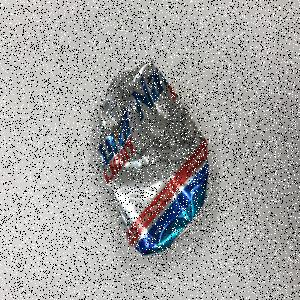Can: (97, 59, 210, 257)
